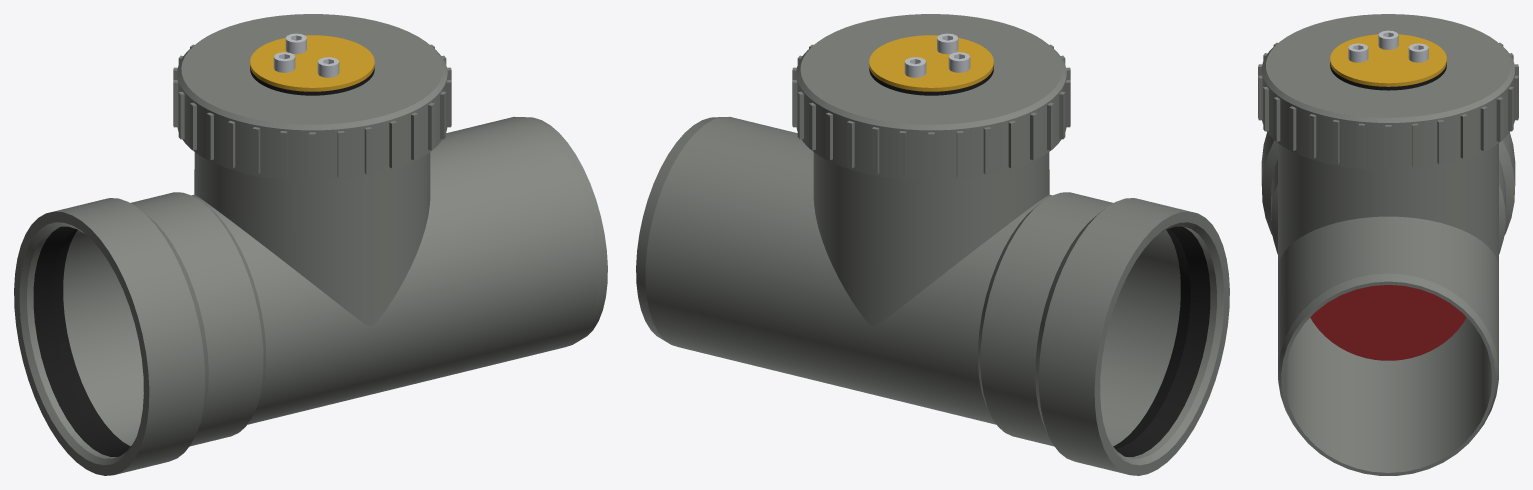
The picture shows the model from 3 angles, left to right: view 1: azimuth 30°, elevation 25°; view 2: azimuth 150°, elevation 25°; view 3: azimuth 270°, elevation 25°; orthographic projection. The views are drawn at different scales.
Parts seen in each view (by area): view 1: b3, b7, b4, b42; view 2: b3, b7, b4, b42; view 3: b3, b7, b23, b42, b40, b46, b48, b44.
Boxes of the visible parts, left/top/right/bottom form: b3: left=14, top=116, right=607, bottom=475; b7: left=173, top=14, right=451, bottom=180; b4: left=33, top=226, right=130, bottom=456; b42: left=250, top=35, right=374, bottom=91; b3: left=636, top=116, right=1229, bottom=475; b7: left=792, top=14, right=1070, bottom=180; b4: left=1113, top=226, right=1210, bottom=456; b42: left=869, top=35, right=993, bottom=91; b3: left=1261, top=132, right=1515, bottom=475; b7: left=1258, top=14, right=1518, bottom=170; b23: left=1310, top=285, right=1466, bottom=360; b42: left=1330, top=34, right=1446, bottom=86; b40: left=1330, top=62, right=1446, bottom=90; b46: left=1408, top=43, right=1428, bottom=62; b48: left=1348, top=43, right=1368, bottom=62; b44: left=1378, top=30, right=1398, bottom=49.
Size of the model in its own units: 252 by 185 by 130.
